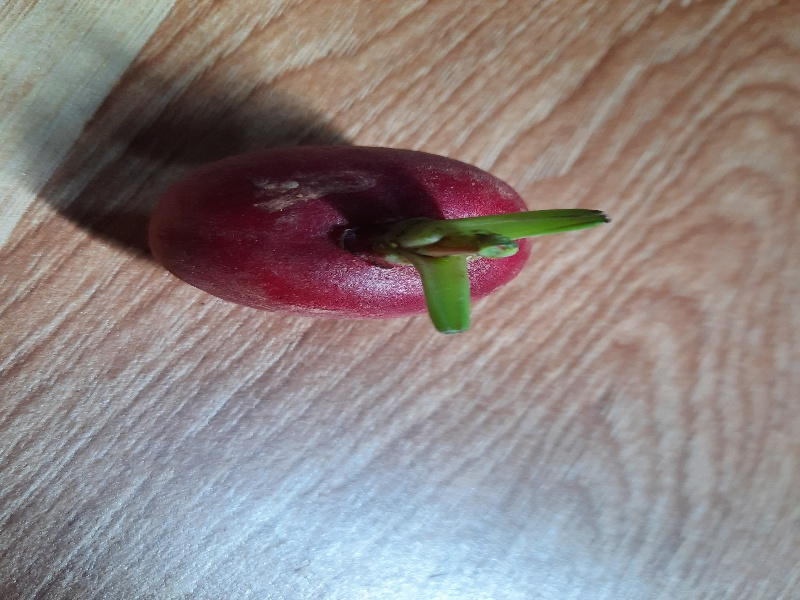vege: (147, 144, 612, 355)
